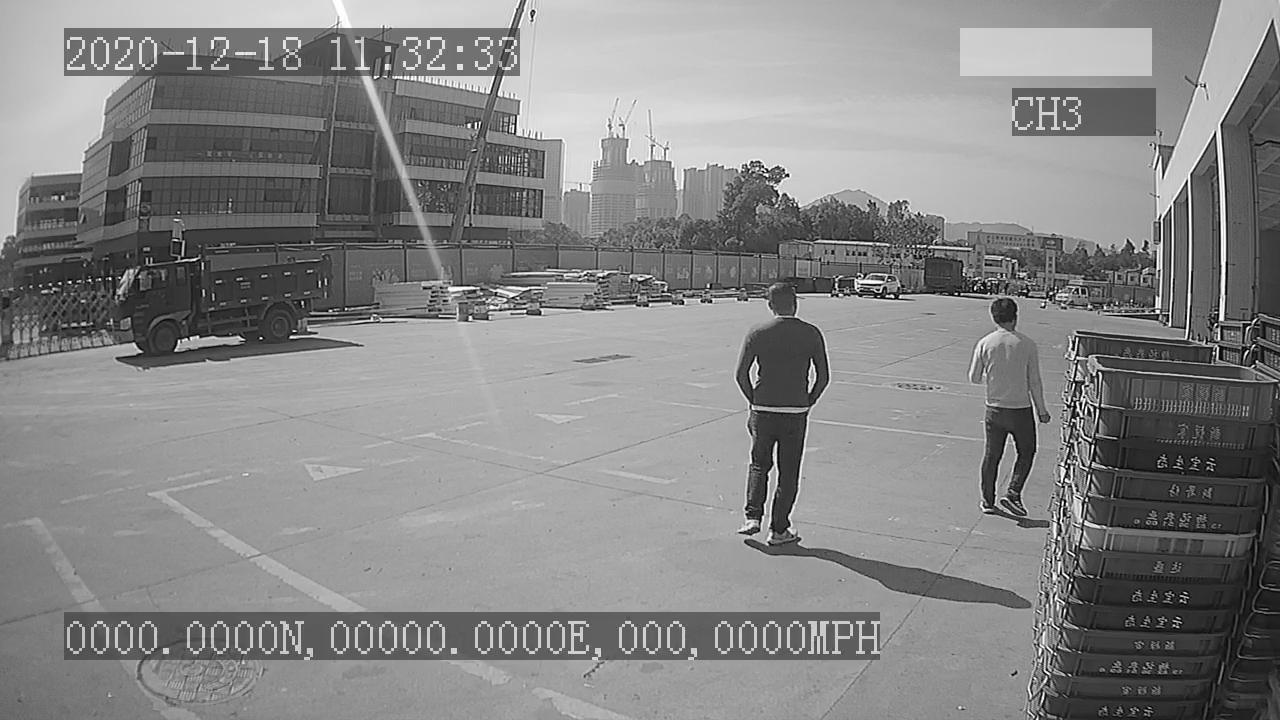person: (729, 276, 830, 547), (964, 293, 1051, 519)
